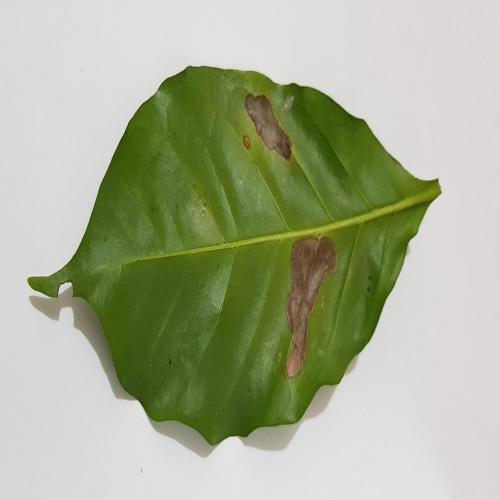leaf: (245, 94, 294, 164)
